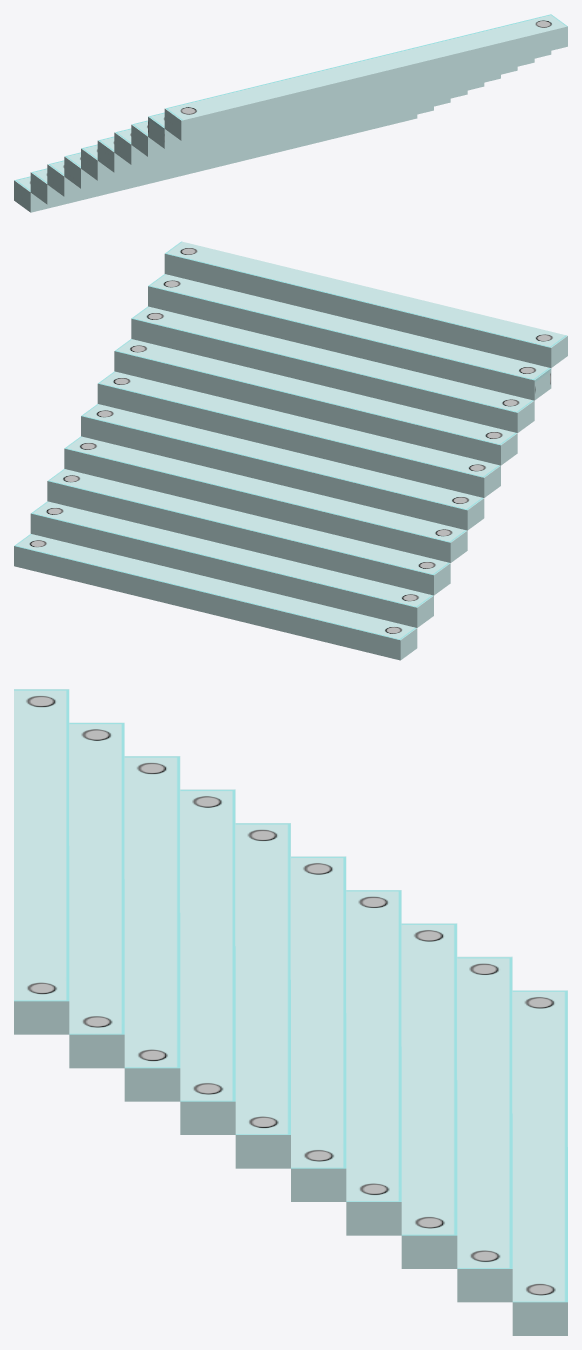
The model's file is 3x2_Stairs.fbx.
3 views of the same model, one above another, from view 1: azimuth 30°, elevation 25°; view 2: azimuth 150°, elevation 25°; view 3: azimuth 270°, elevation 25° (orthographic). The views are drawn at different scales.
Parts seen in each view (by area): view 1: polySurface25; view 2: polySurface25; view 3: polySurface25.
Part boxes in pixels (bbox=[...]): polySurface25: bbox=[14, 14, 567, 212]; polySurface25: bbox=[14, 241, 567, 660]; polySurface25: bbox=[14, 689, 567, 1335].
Size of the model in its own units: 4 by 2 by 3.
